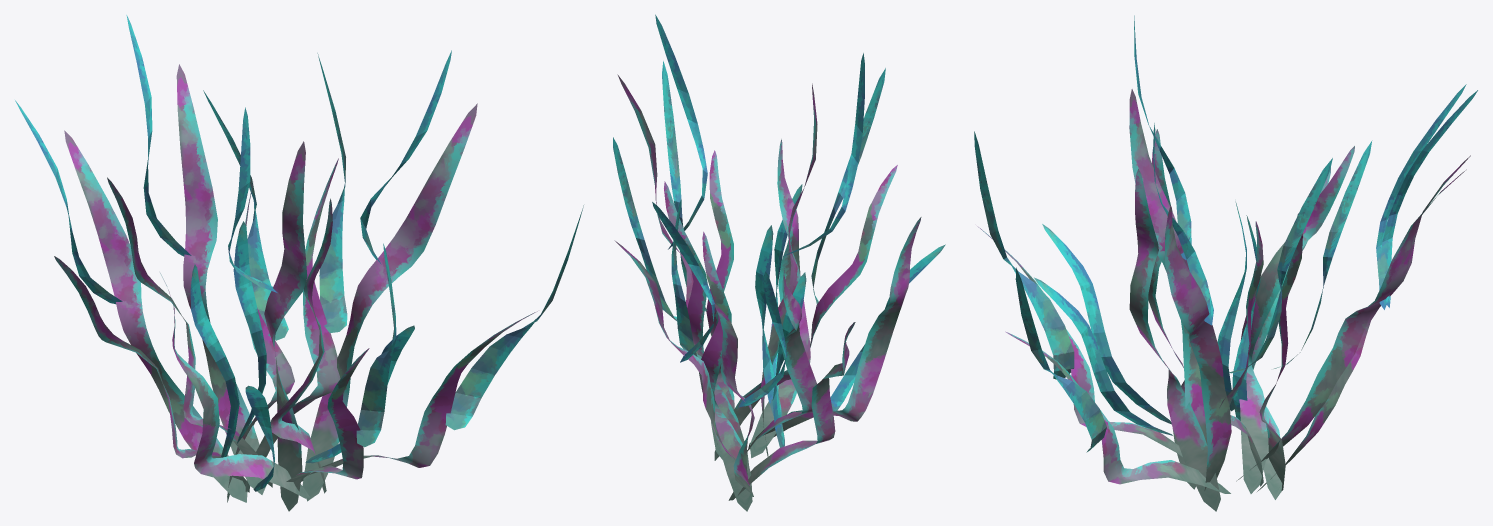
Rendered from P_Longpipe2.fbx.
3 views of the same model, side by side, from view 1: azimuth 30°, elevation 25°; view 2: azimuth 150°, elevation 25°; view 3: azimuth 270°, elevation 25° (orthographic). The views are drawn at different scales.
Visible parts, largest first — view 1: Plant_Longpipe.004; view 2: Plant_Longpipe.004; view 3: Plant_Longpipe.004.
Boxes of the visible parts, x1=… form: Plant_Longpipe.004: x1=15, y1=15, x2=583, y2=511; Plant_Longpipe.004: x1=613, y1=14, x2=945, y2=511; Plant_Longpipe.004: x1=974, y1=15, x2=1477, y2=511.
Bounding box in the file's own units: 76.26 × 91.14 × 91.36.
